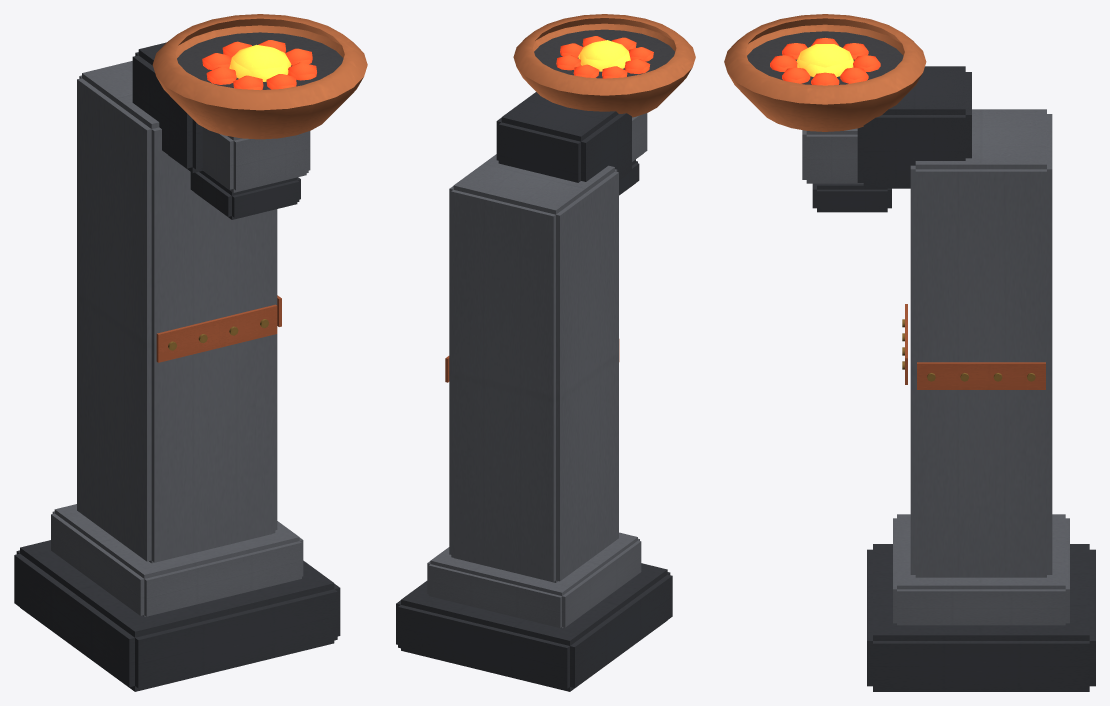
File: warning_beacon_totem.glb
3 views of the same model, side by side, from view 1: azimuth 30°, elevation 25°; view 2: azimuth 150°, elevation 25°; view 3: azimuth 270°, elevation 25° (orthographic). The views are drawn at different scales.
Parts seen in each view (by area): view 1: warning_beacon_totem; view 2: warning_beacon_totem; view 3: warning_beacon_totem.
Part boxes in pixels (<box>): warning_beacon_totem: <box>14,14,367,691</box>; warning_beacon_totem: <box>396,14,695,691</box>; warning_beacon_totem: <box>724,14,1095,691</box>.
Bounding box in the file's own units: 1.1 × 3.18 × 1.79.
Materials: 1 (1 with a texture image).
